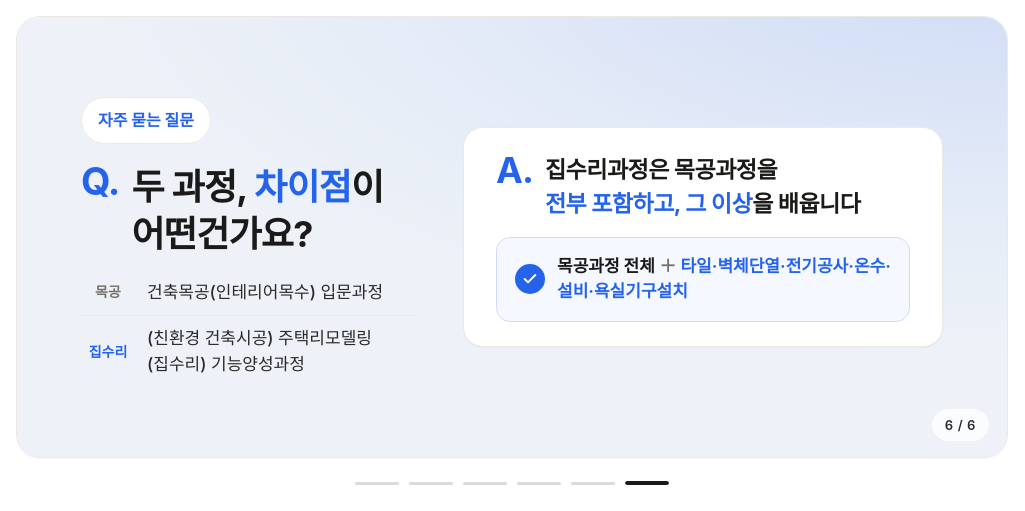
Test: Banner › 오른쪽으로 스와이프하면 이전 슬라이드로 돌아간다 (2 → 1 / 6)
Click the button named "슬라이드 2" at [431, 483], box [409,476,453,490]
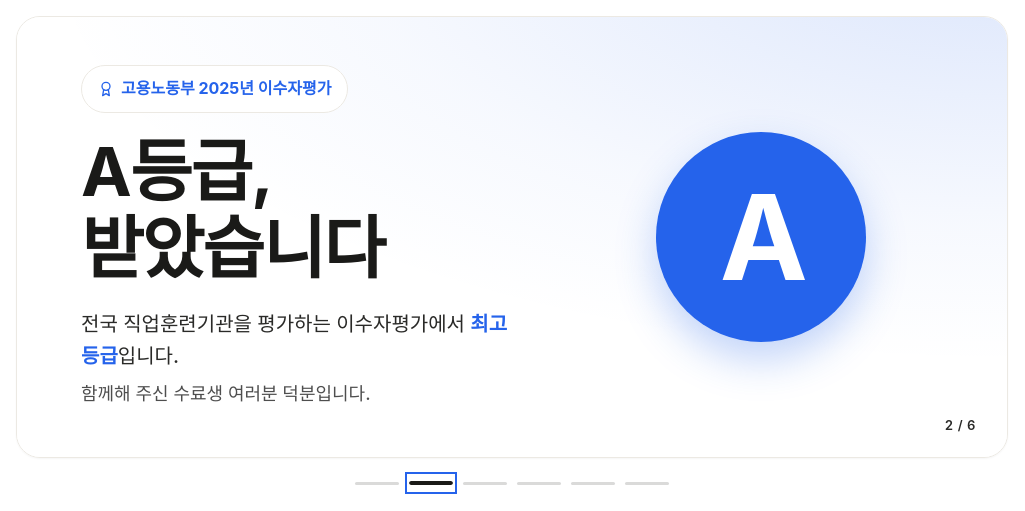
Press the mouse on the element with test id "banner-track" at [512, 237], box [16,16,1008,458]
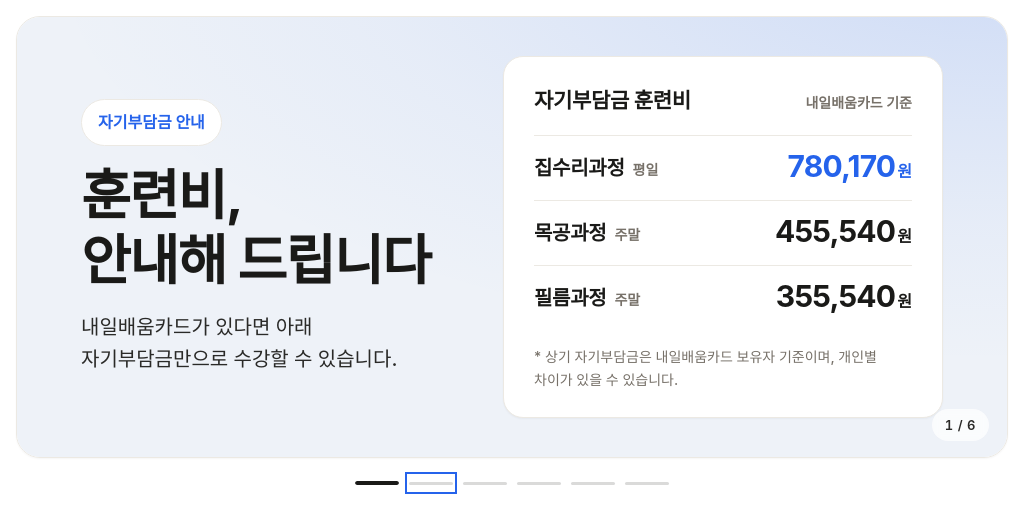
Expected: the text "1 / 6" is shown, [932,409,989,441]
